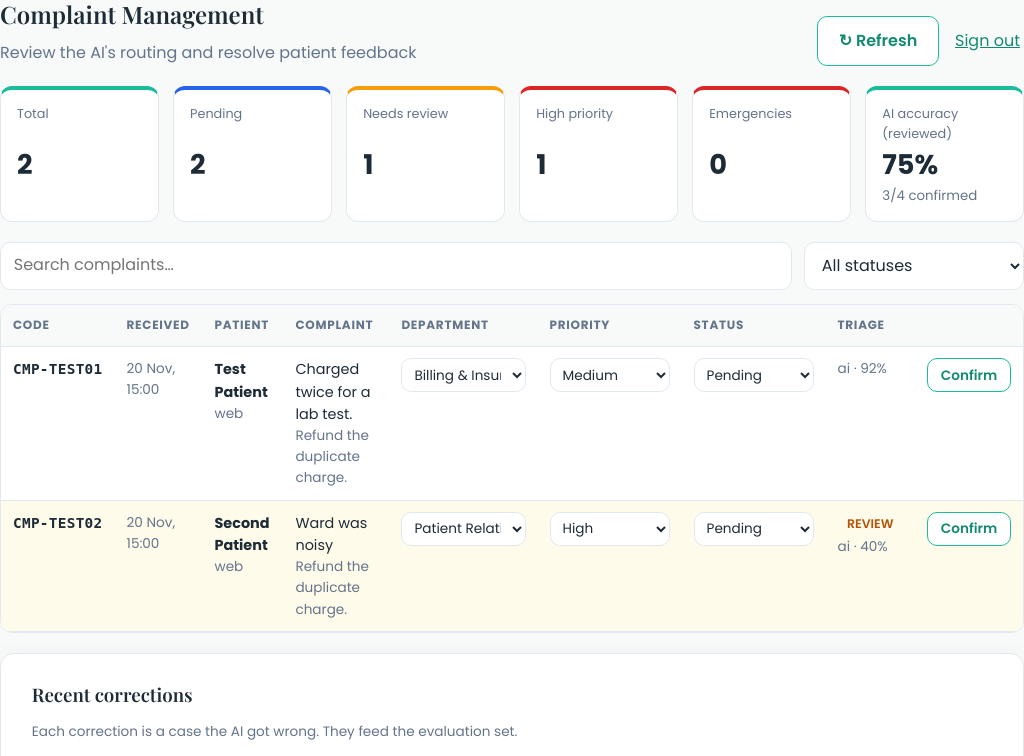
Test: StaffDesk › filters to complaints that need review
Expected: the text "Second Patient" is shown, [214,513,270,555]
Select "Needs review" in the dropdown named "Filter" at (914, 266), box [804,242,1023,290]
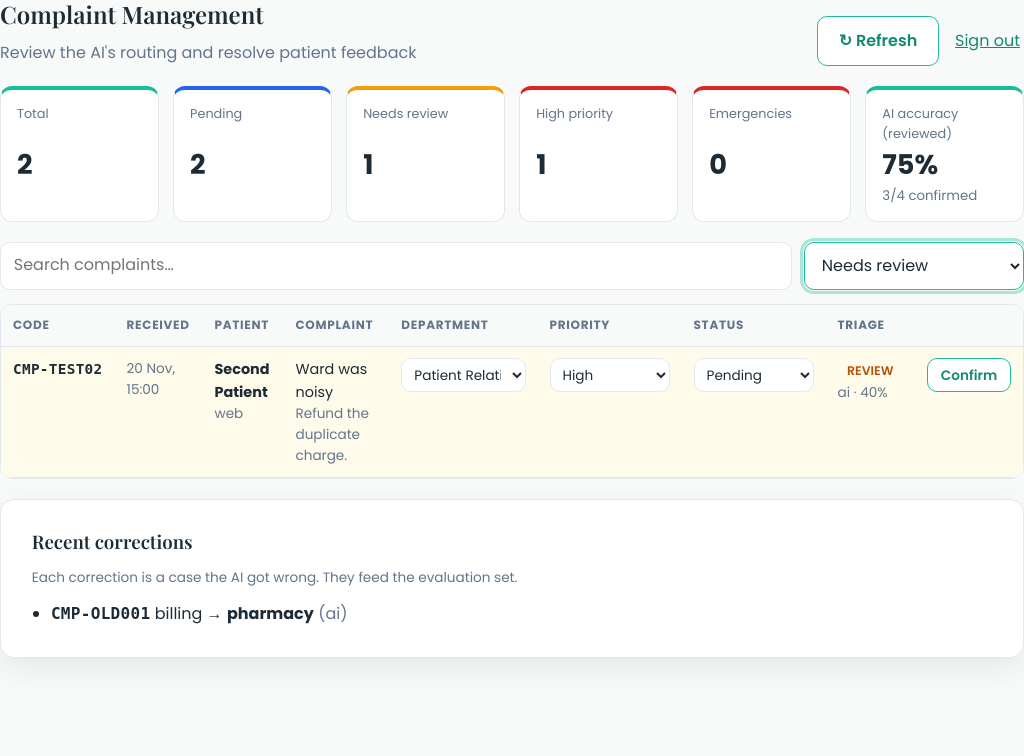
Expected: the text "Second Patient" is shown, [214,359,270,402]
Expected: the text "Test Patient" is gone
